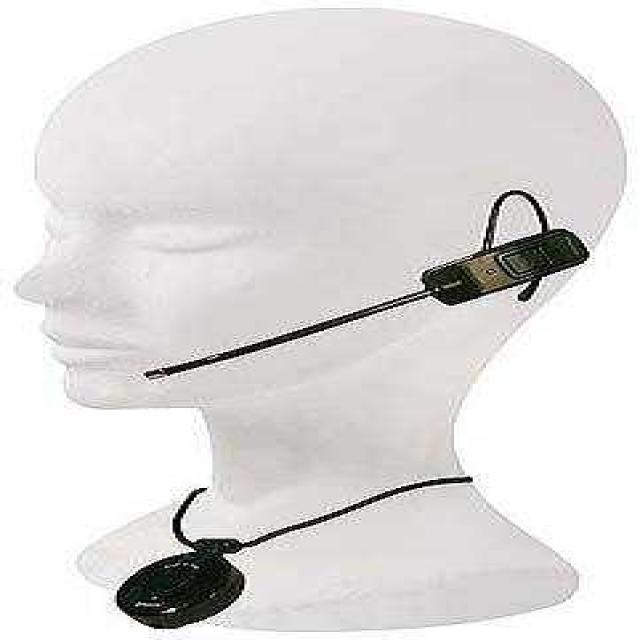microphone: (151, 338, 279, 377)
